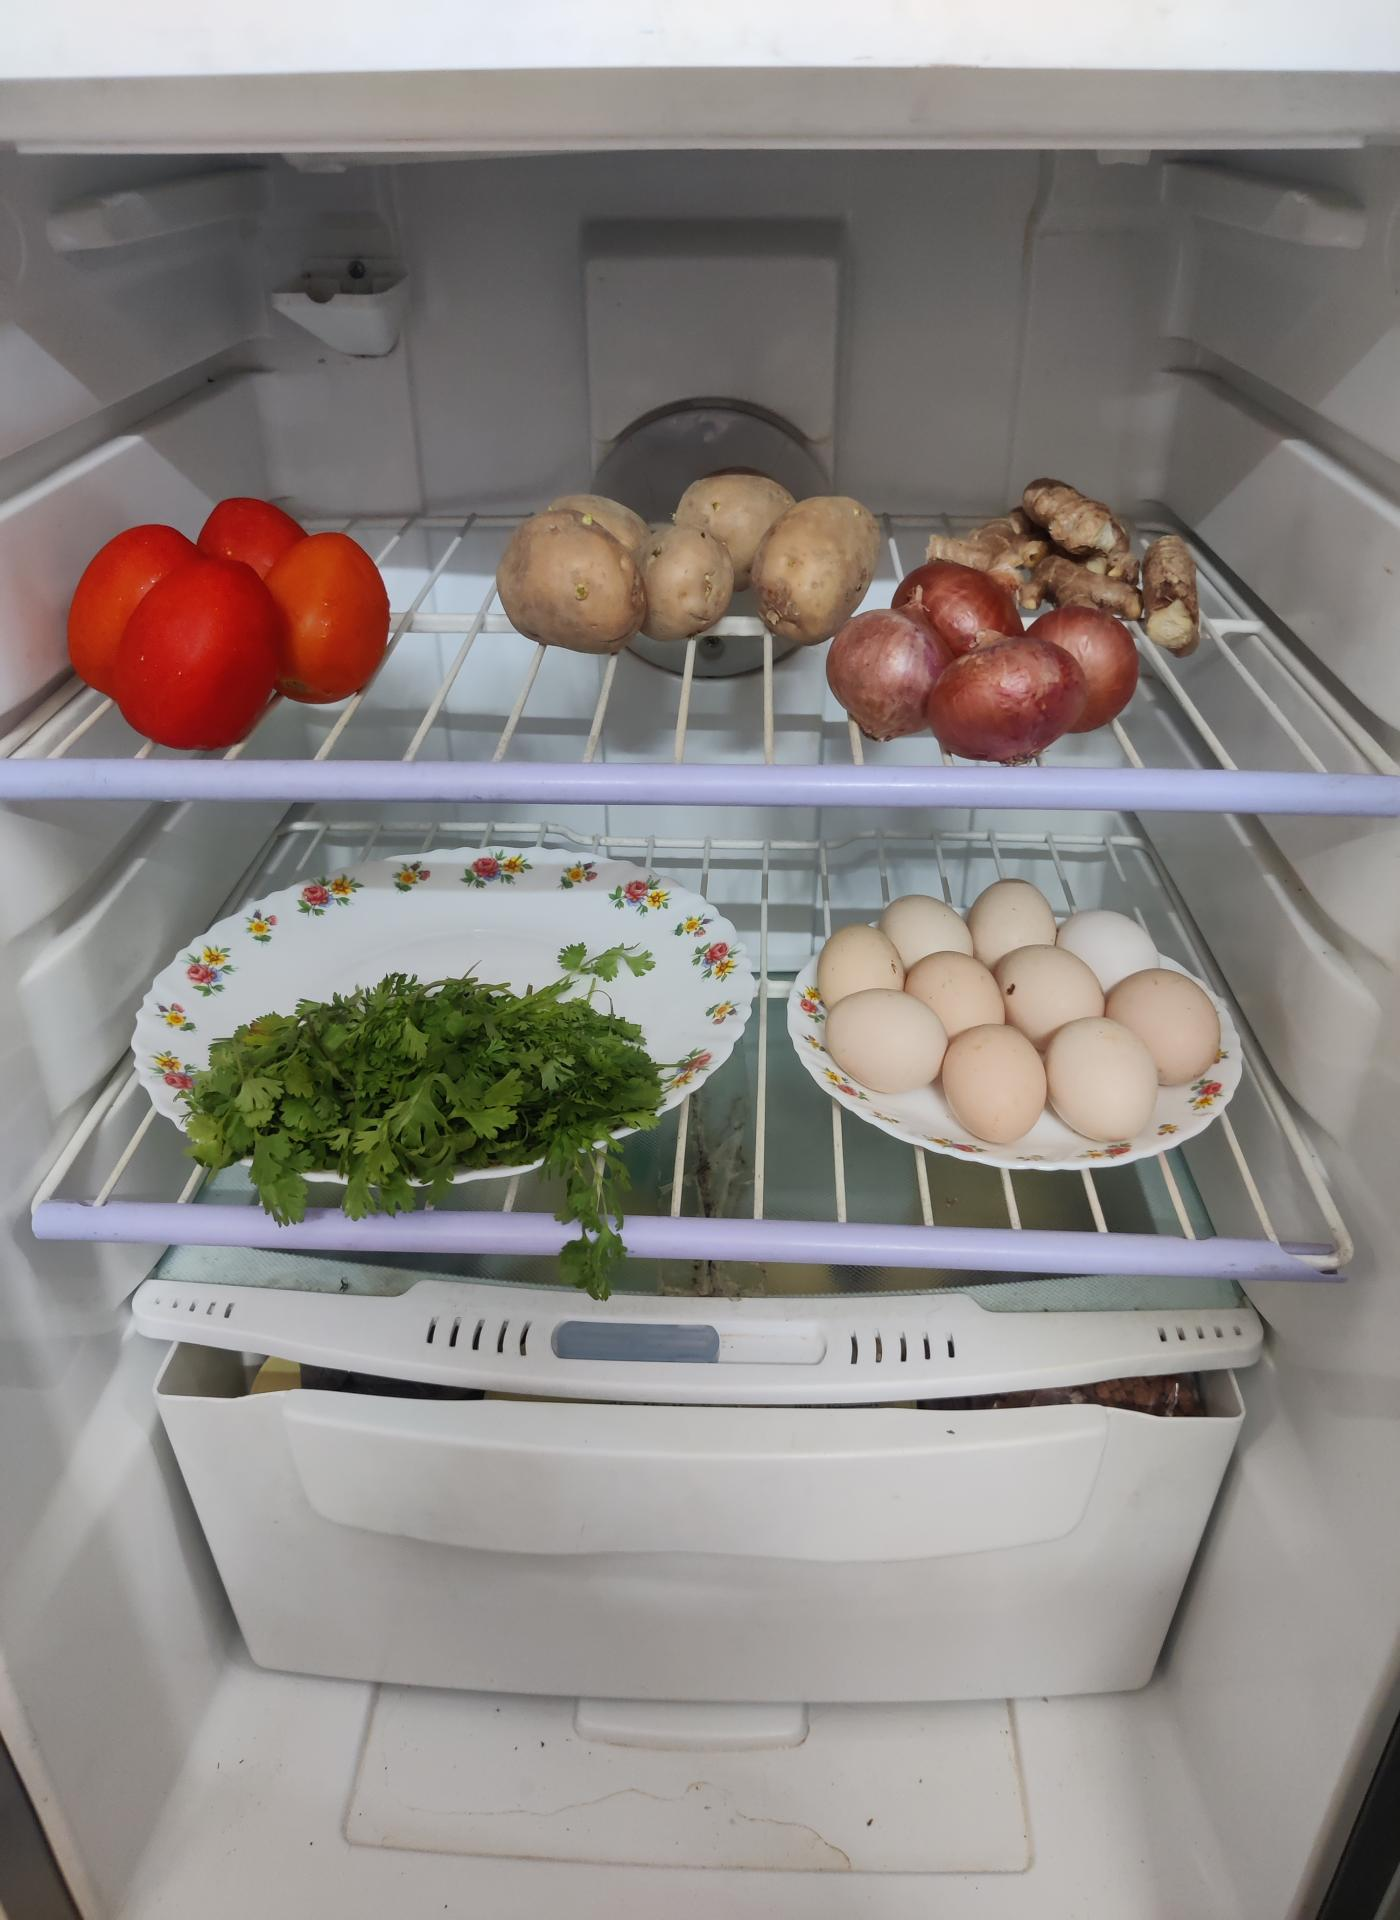coriander: (176, 975, 671, 1197)
egg: (796, 894, 1215, 1172)
ginger: (915, 479, 1212, 632)
onion: (817, 568, 1133, 759)
potato: (502, 476, 887, 659)
tomato: (73, 492, 397, 744)
